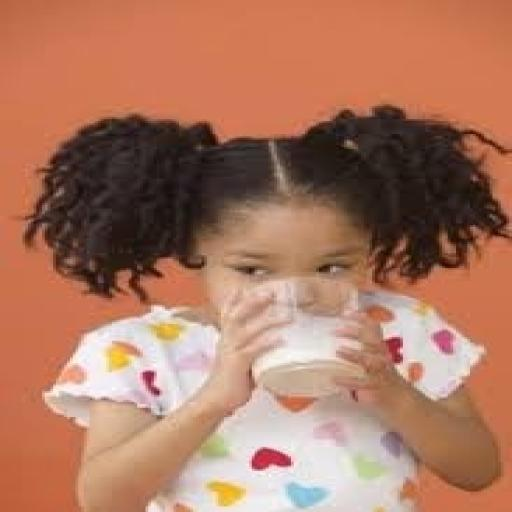drinking: (241, 276, 372, 400)
